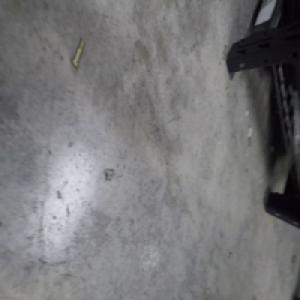Bolt: (70, 37, 86, 71)
